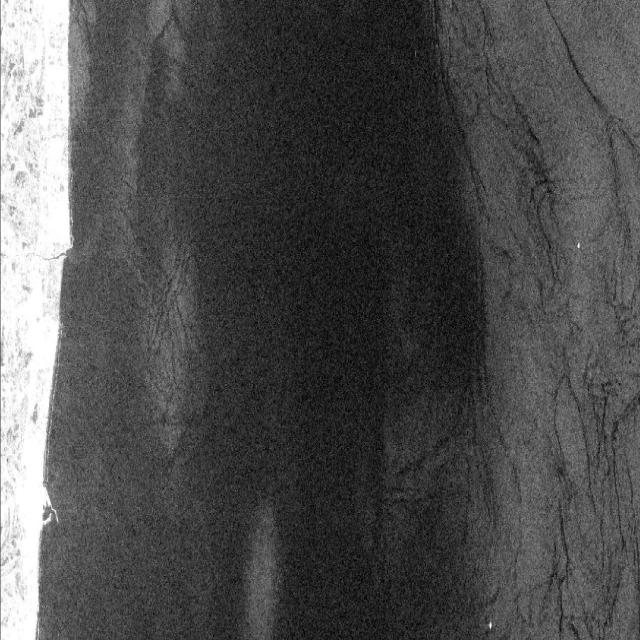look-alike: (185, 0, 470, 624), (546, 357, 633, 627), (490, 89, 570, 292), (577, 47, 637, 316)
